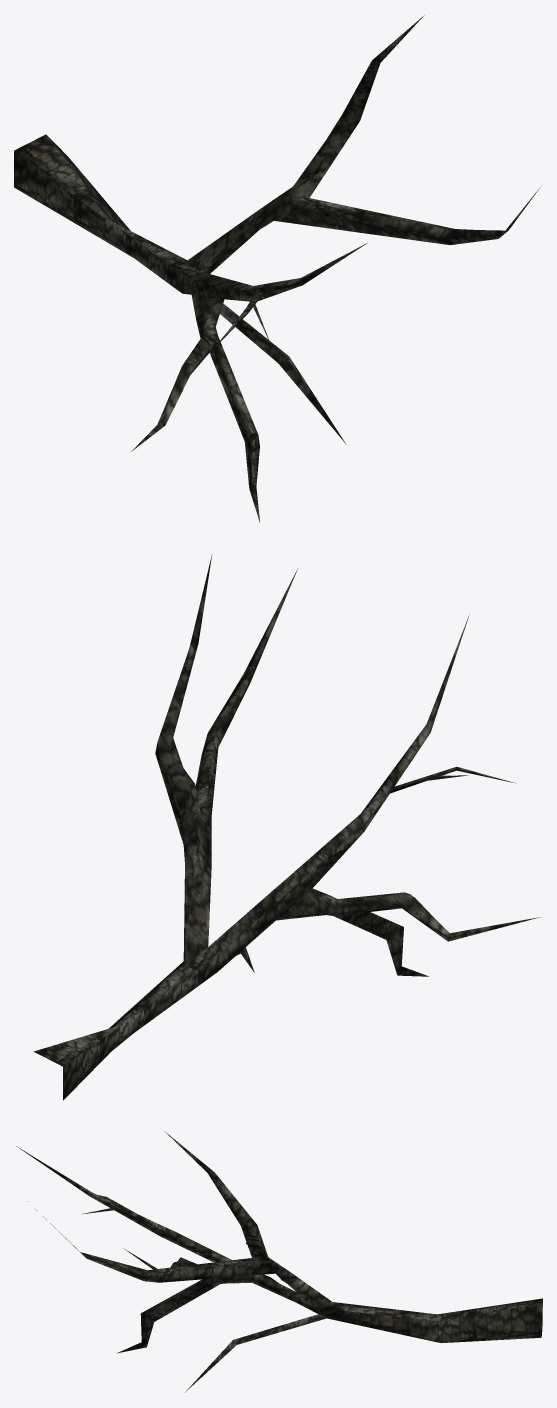
3 views of the same model, one above another, from view 1: azimuth 30°, elevation 25°; view 2: azimuth 150°, elevation 25°; view 3: azimuth 270°, elevation 25° (orthographic). The views are drawn at different scales.
Visible parts, largest first — view 1: model_Object24; view 2: model_Object24; view 3: model_Object24.
Boxes of the visible parts, x1=… form: model_Object24: x1=14, y1=15, x2=540, y2=523; model_Object24: x1=33, y1=554, x2=540, y2=1100; model_Object24: x1=16, y1=1131, x2=542, y2=1392.
Size of the model in its own units: 2.37 by 2.81 by 4.65.
1 material, 1 textured.
